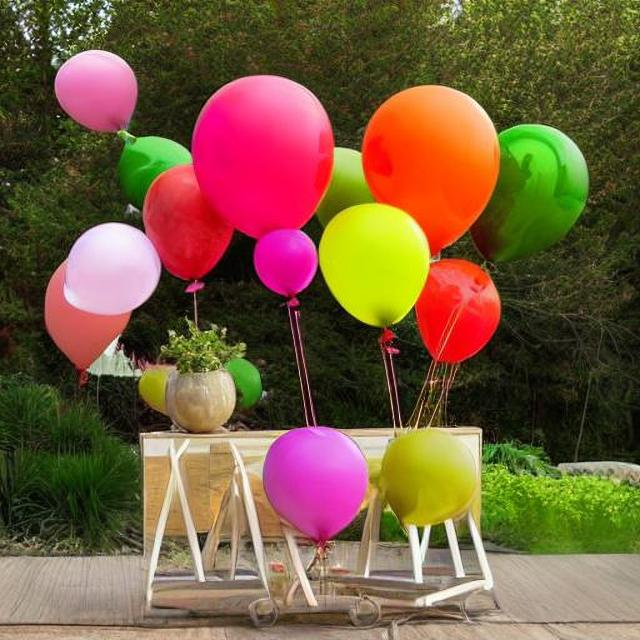balloon: (17, 49, 612, 387), (238, 426, 476, 550)
